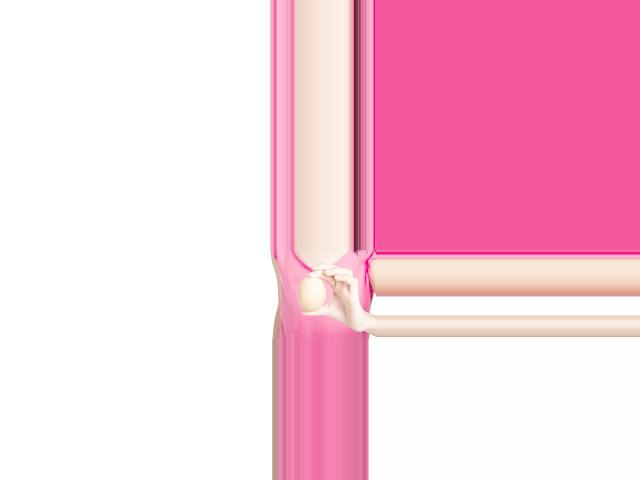egg: (297, 275, 326, 311)
